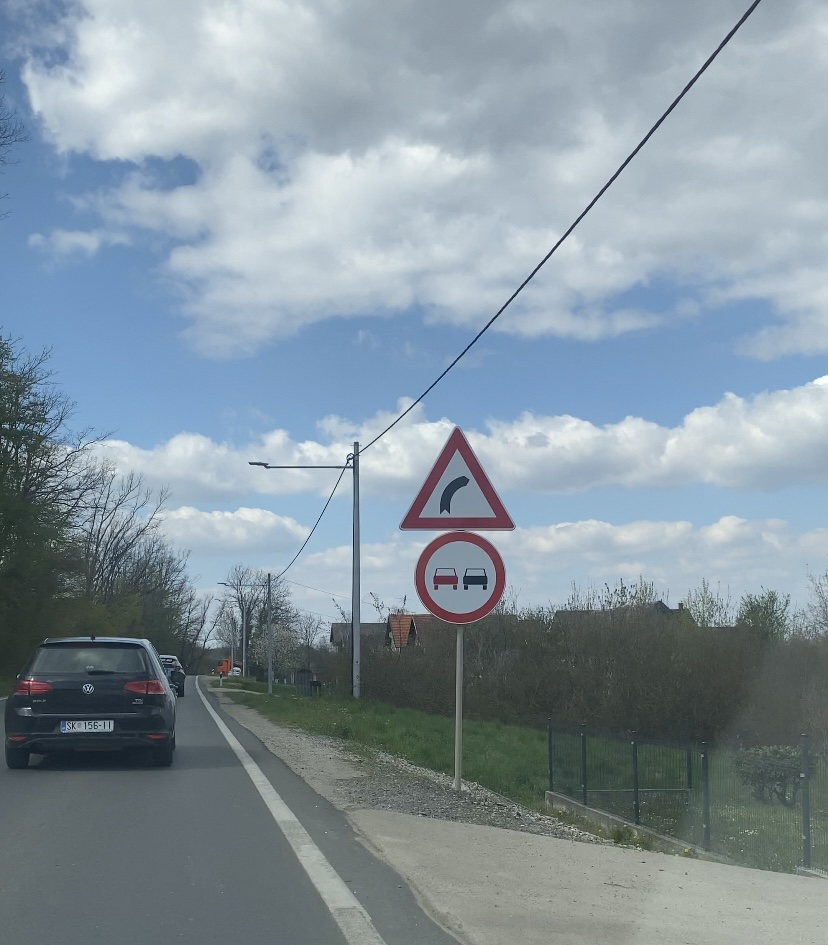Zabrana pretjecanja: (415, 531, 506, 624)
